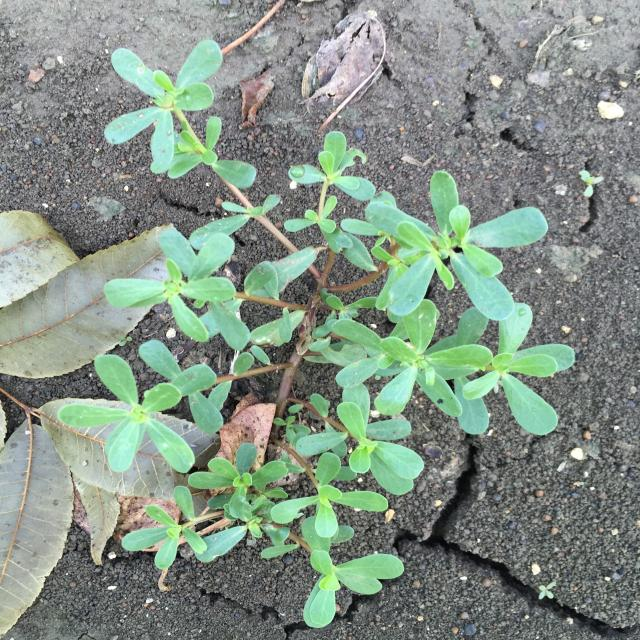Purslane: (58, 40, 576, 628)
